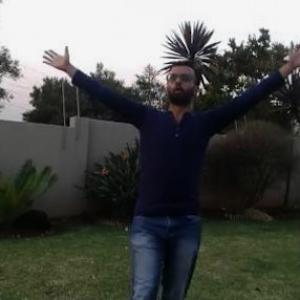takeoff: (4, 32, 299, 299)
